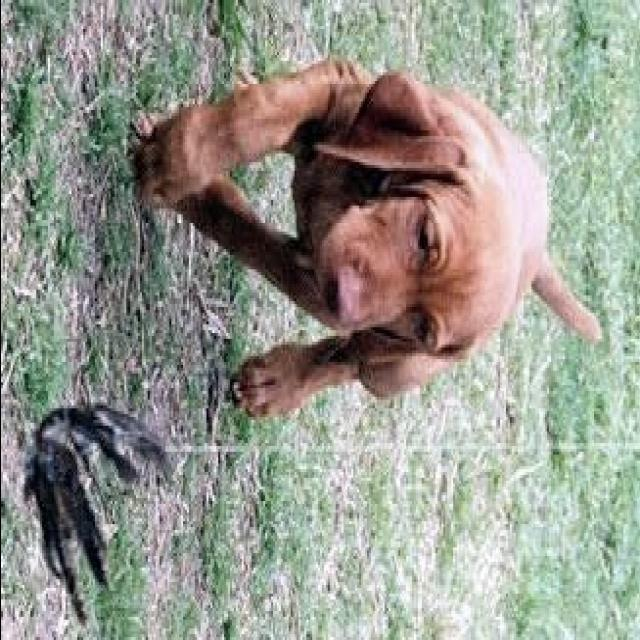vizsla: (133, 70, 603, 426)
